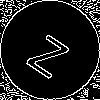Z: (25, 25, 76, 80)
